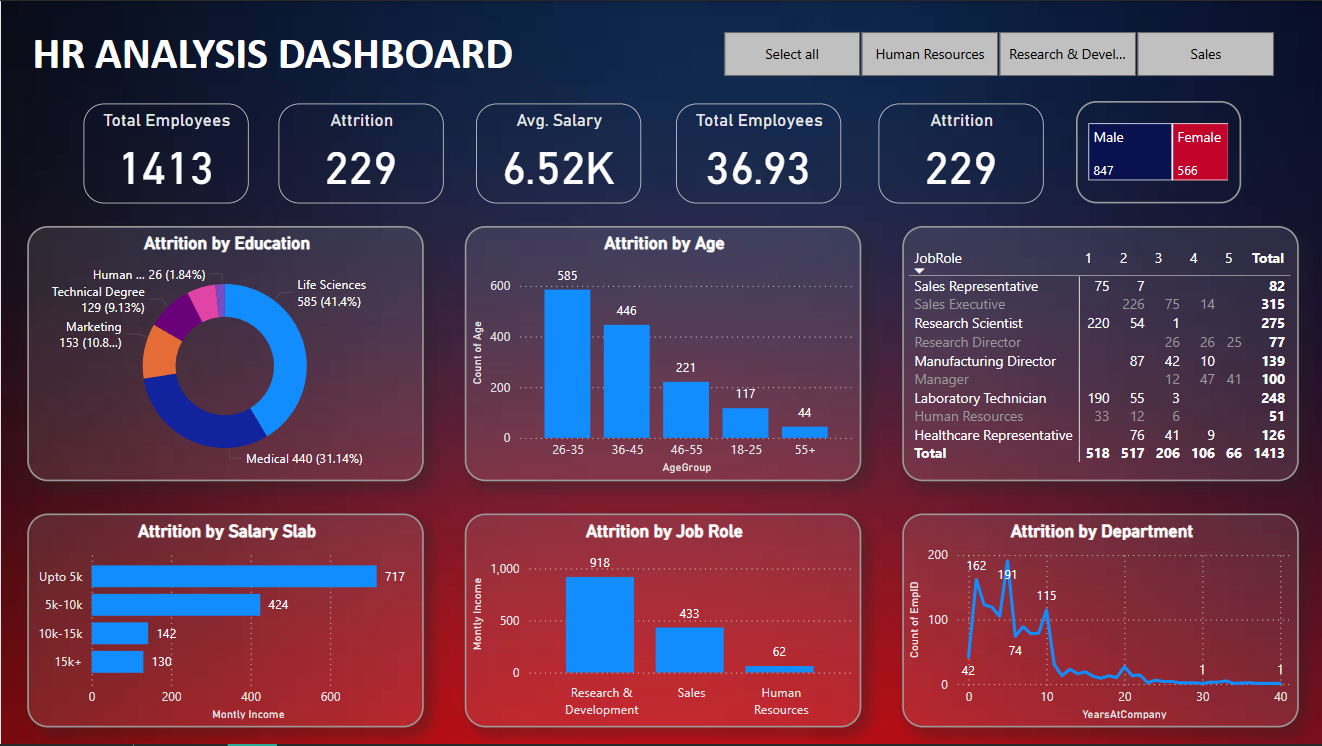

This screenshot's page, from the dashboard's own definition file:
{"tool":"powerbi","page":{"name":"Page 1","canvas":[1280,720],"ordinal":0},"visuals":[{"type":"textbox","box":[25.4,19.1,487.8,65.4],"z":0},{"type":"card","title":"Total Employees","fields":{"Values":["CountNonNull(HR_Analytics.EmpID)"]},"box":[79.9,99.7,159.8,96.8],"z":1000,"group":"g1"},{"type":"slicer","fields":{"Values":["HR_Analytics.Department"]},"box":[674.2,22.8,582.2,56.9],"z":1000},{"type":"card","title":"Attrition","fields":{"Values":["CountNonNull(HR_Analytics.EmpID)"]},"box":[268.3,99.2,159.8,96.8],"z":2000,"group":"g1"},{"type":"donutChart","title":"Attrition by Education","fields":{"Y":["CountNonNull(HR_Analytics.EmpID)"],"Category":["HR_Analytics.EducationField"]},"box":[25.4,217.9,383.7,246.9],"z":2000},{"type":"card","title":"Avg. Salary","fields":{"Values":["Avg(HR_Analytics.MonthlyIncome)"]},"box":[459.5,99.2,159.8,96.8],"z":3000,"group":"g1"},{"type":"group","id":"g1","title":"Group 1","box":[79.9,96.8,1120.9,99.3],"z":3000},{"type":"lineChart","title":"Attrition by Department","fields":{"Y":["CountNonNull(HR_Analytics.EmpID)"],"Category":["HR_Analytics.YearsAtCompany"]},"box":[872.8,496.3,383.7,207],"z":4000},{"type":"card","title":"Total Employees","fields":{"Values":["Avg(HR_Analytics.Age)"]},"box":[653.2,99.2,159.8,96.8],"z":5000,"group":"g1"},{"type":"columnChart","title":"Attrition by Age","fields":{"Category":["HR_Analytics.AgeGroup"],"Y":["CountNonNull(HR_Analytics.Age)"]},"box":[449.1,217.9,383.7,246.9],"z":5000},{"type":"card","title":"Attrition","fields":{"Values":["CountNonNull(HR_Analytics.EmpID)"]},"box":[849.3,99.2,159.8,96.8],"z":6000,"group":"g1"},{"type":"pivotTable","title":"Attrition by Education","fields":{"Rows":["HR_Analytics.JobRole"],"Values":["CountNonNull(HR_Analytics.EmpID)"],"Columns":["HR_Analytics.JobLevel"]},"box":[872.8,217.9,383.7,246.9],"z":6000},{"type":"treemap","title":"Ratio","fields":{"Group":["HR_Analytics.Gender"],"Values":["CountNonNull(HR_Analytics.EmpID)"]},"box":[1040.6,96.8,159.8,99.3],"z":7000,"group":"g1"},{"type":"barChart","title":"Attrition by Salary Slab","fields":{"Category":["HR_Analytics.SalarySlab"],"Y":["CountNonNull(HR_Analytics.MonthlyIncome)"]},"box":[25.4,496.3,383.7,207],"z":7000},{"type":"columnChart","title":"Attrition by Job Role","fields":{"Category":["HR_Analytics.Department"],"Y":["CountNonNull(HR_Analytics.EmpID)"]},"box":[449.1,496.3,383.7,207],"z":8000}]}

Visuals, with their boxes in screenshot pixels (x1, y1, x2, y2), scaled from the page's 1280x720 canvas onto the 1322x746 screenshot:
textbox: bbox(26, 20, 530, 88)
"Total Employees" card: bbox(83, 103, 248, 204)
slicer - HR_Analytics.Department: bbox(696, 24, 1298, 83)
"Attrition" card: bbox(277, 103, 442, 203)
"Attrition by Education" donutChart: bbox(26, 226, 423, 482)
"Avg. Salary" card: bbox(475, 103, 640, 203)
"Group 1" group: bbox(83, 100, 1240, 203)
"Attrition by Department" lineChart: bbox(901, 514, 1298, 729)
"Total Employees" card: bbox(675, 103, 840, 203)
"Attrition by Age" columnChart: bbox(464, 226, 860, 482)
"Attrition" card: bbox(877, 103, 1042, 203)
"Attrition by Education" pivotTable: bbox(901, 226, 1298, 482)
"Ratio" treemap: bbox(1075, 100, 1240, 203)
"Attrition by Salary Slab" barChart: bbox(26, 514, 423, 729)
"Attrition by Job Role" columnChart: bbox(464, 514, 860, 729)
